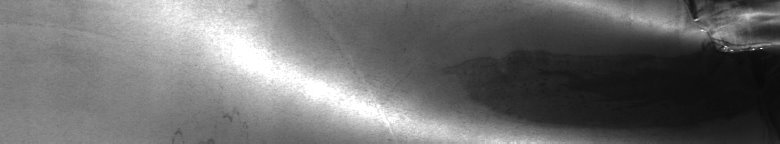ke: (687, 4, 776, 56)
